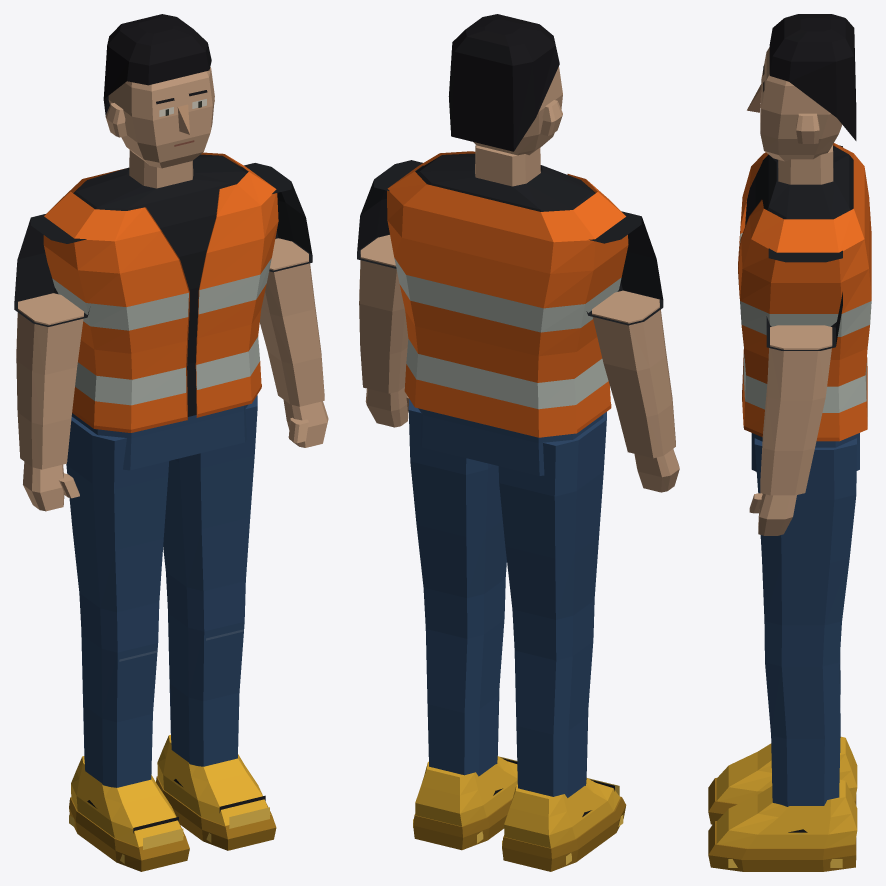
Rendered from svyazi_orange.glb.
3 views of the same model, side by side, from view 1: azimuth 30°, elevation 25°; view 2: azimuth 150°, elevation 25°; view 3: azimuth 270°, elevation 25° (orthographic). The views are drawn at different scales.
Parts seen in each view (by area): view 1: NPC_GoldSneakers_FixedVest; view 2: NPC_GoldSneakers_FixedVest; view 3: NPC_GoldSneakers_FixedVest.
Boxes of the visible parts, x1,y1,x2,y2 form: NPC_GoldSneakers_FixedVest: (14, 14, 328, 871); NPC_GoldSneakers_FixedVest: (357, 14, 679, 871); NPC_GoldSneakers_FixedVest: (708, 14, 871, 871).
Size of the model in its own units: 0.686 by 1.75 by 0.32.
Materials: 1 (1 with a texture image).
